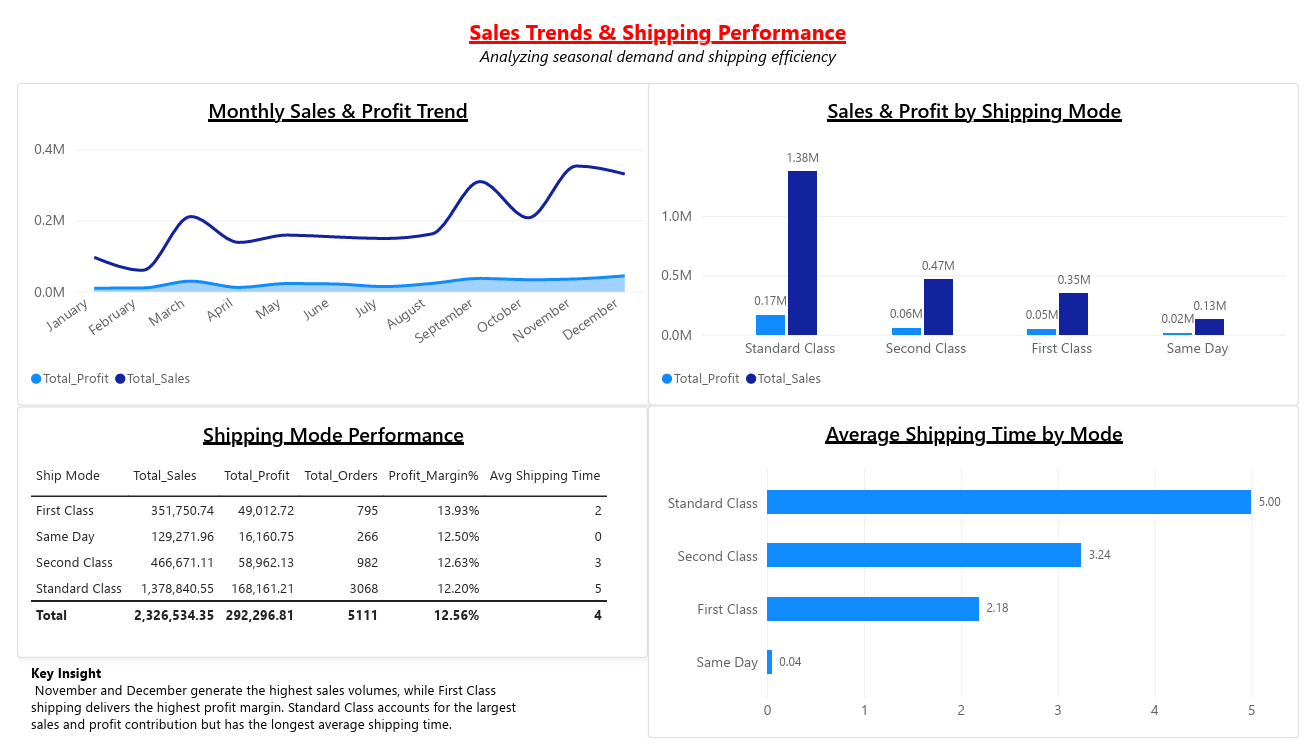

The page's visual inventory and layout, read from the dashboard file:
{"tool":"powerbi","page":{"name":"Sales Trends & Shipping Performance","canvas":[1280,720],"ordinal":3},"visuals":[{"type":"lineChart","title":"Monthly Sales & Profit Trend","fields":{"Category":["Orders_Clean_UTF8.Month Name"],"Y":["Orders_Clean_UTF8.Total_Profit","Orders_Clean_UTF8.Total_Sales"]},"box":[0,65.9,639.5,322.5],"z":0},{"type":"clusteredColumnChart","title":"Sales & Profit by Shipping Mode","fields":{"Category":["Orders_Clean_UTF8.Ship Mode"],"Y":["Orders_Clean_UTF8.Total_Profit","Orders_Clean_UTF8.Total_Sales"]},"box":[629.8,65.9,650.4,322.5],"z":1000},{"type":"tableEx","title":"Shipping Mode Performance","fields":{"Values":["Orders_Clean_UTF8.Ship Mode","Orders_Clean_UTF8.Total_Sales","Orders_Clean_UTF8.Total_Profit","Orders_Clean_UTF8.Total_Orders","Orders_Clean_UTF8.Profit_Margin%","Orders_Clean_UTF8.Avg Shipping Time"]},"box":[0,388.6,630,251.4],"z":2000},{"type":"clusteredBarChart","title":"Average Shipping Time by Mode","fields":{"Category":["Orders_Clean_UTF8.Ship Mode"],"Y":["Avg(Orders_Clean_UTF8.Shipping Time)"]},"box":[629.8,388.3,650.4,332.1],"z":3000},{"type":"textbox","box":[0,0,1280.3,65.9],"z":3005},{"type":"textbox","box":[14.3,645.7,500,74.3],"z":3006}]}

Visuals, with their boxes in screenshot pixels (x1, y1, x2, y2), scaled from the page's 1280x720 canvas onto the 1315x753 screenshot:
"Monthly Sales & Profit Trend" lineChart: 0 69 657 406
"Sales & Profit by Shipping Mode" clusteredColumnChart: 647 69 1314 406
"Shipping Mode Performance" tableEx: 0 406 647 669
"Average Shipping Time by Mode" clusteredBarChart: 647 406 1314 752
textbox: 0 0 1314 69
textbox: 15 675 528 752
